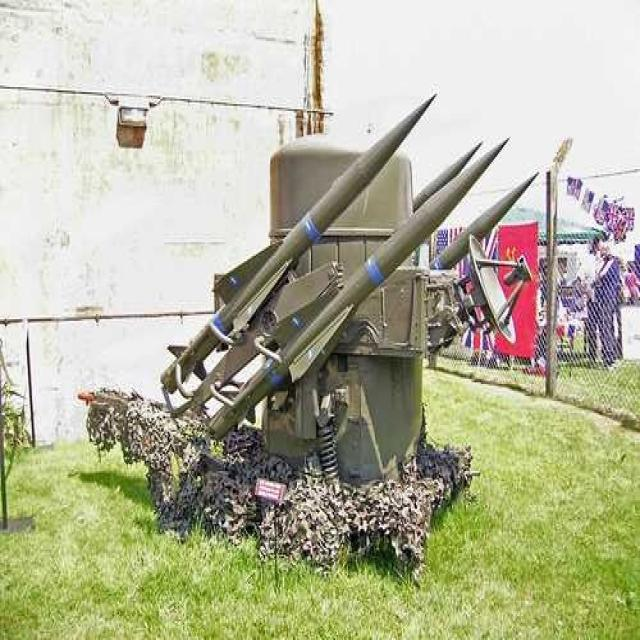missile: (198, 127, 509, 435), (162, 91, 428, 384)
